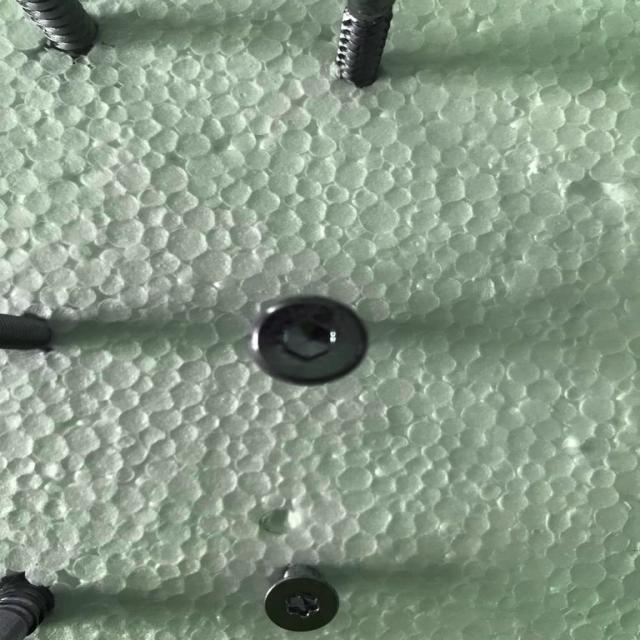HexScrew: (250, 297, 369, 385)
